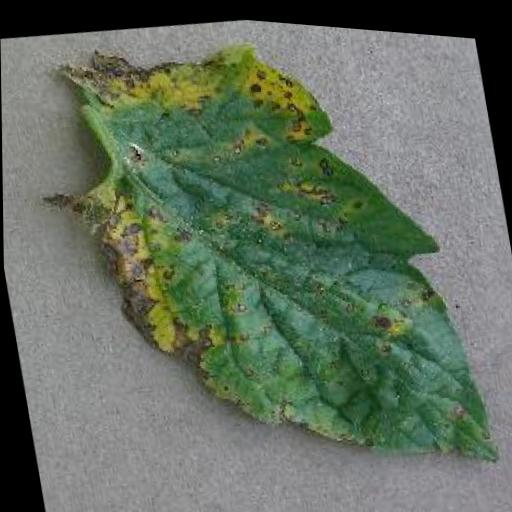Early Blight: (27, 2, 499, 512)
